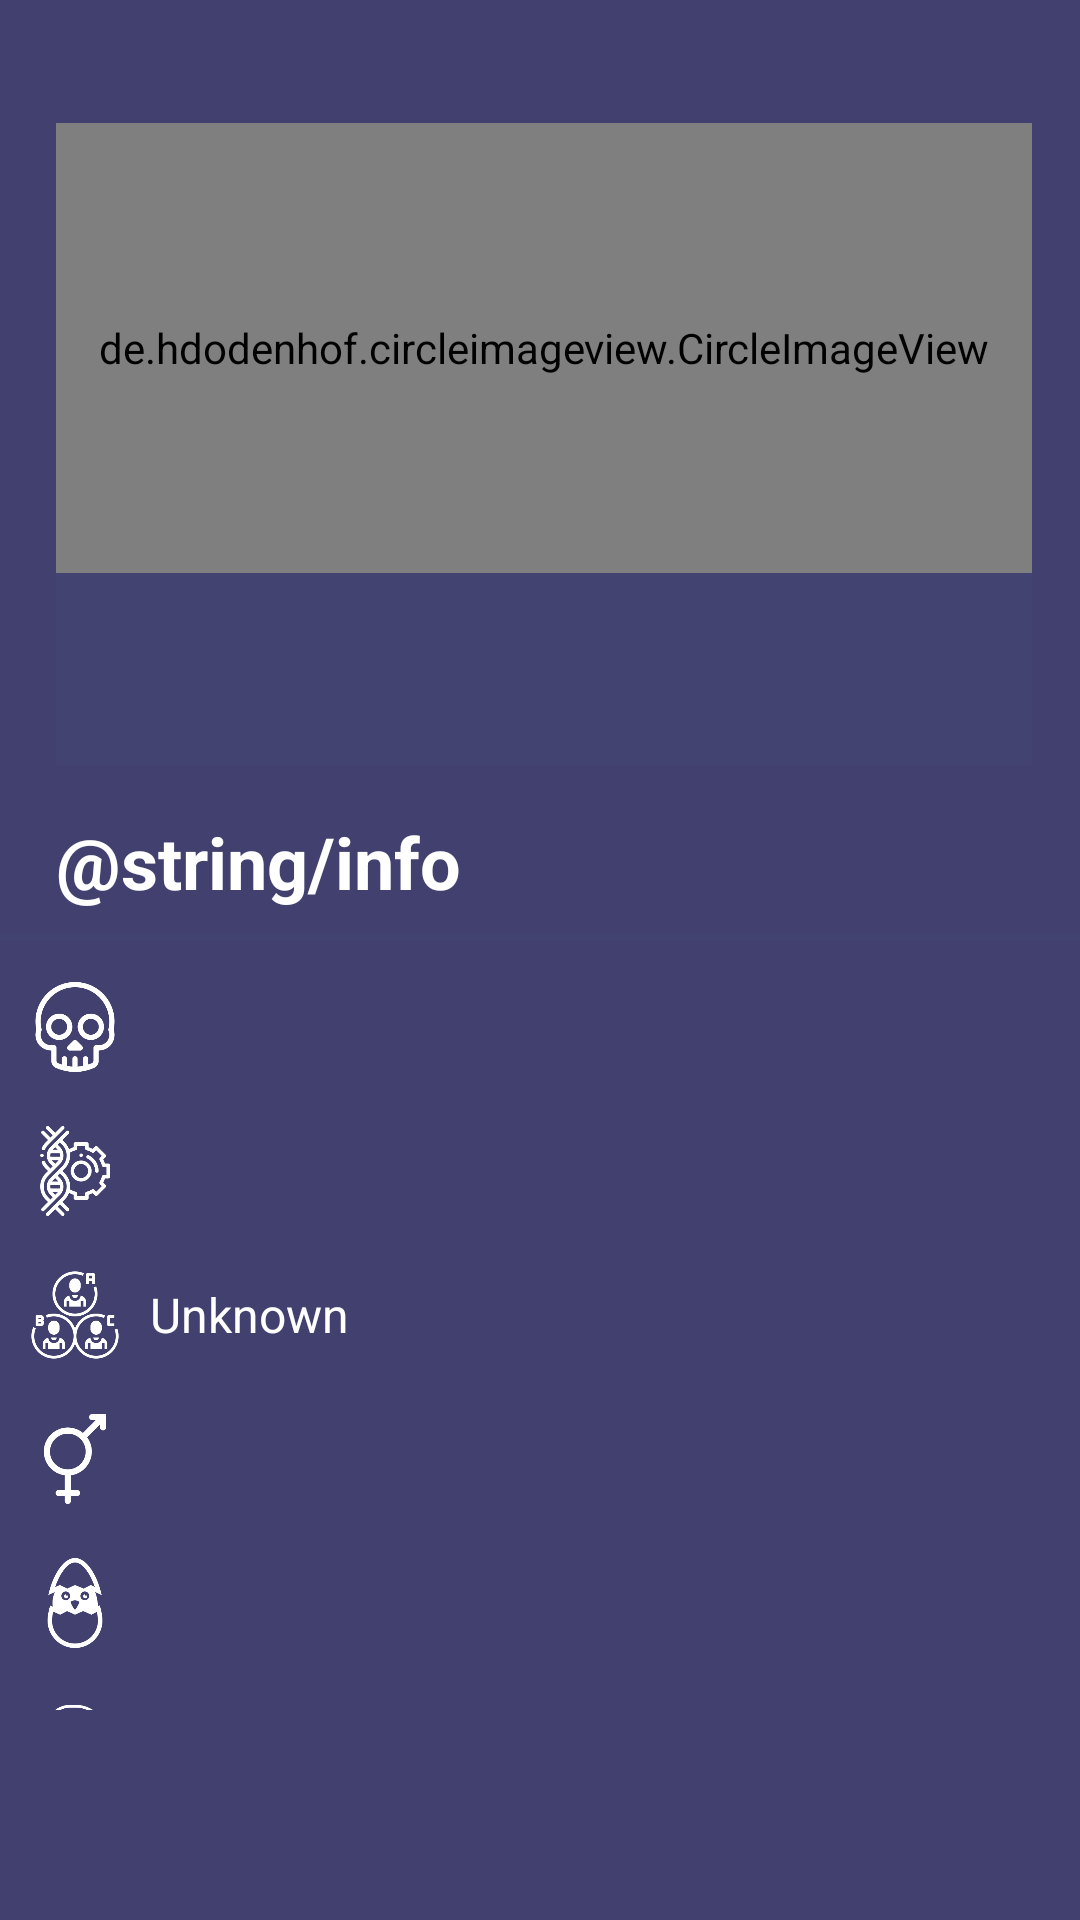

Where icons sit on this 1080px x 1920px app screen, as Rect(x1, y1, x2, y2):
adn: Rect(40, 1126, 110, 1216)
born: Rect(47, 1558, 103, 1648)
gender: Rect(44, 1414, 106, 1504)
status: Rect(35, 982, 115, 1072)
type: Rect(31, 1271, 119, 1359)
